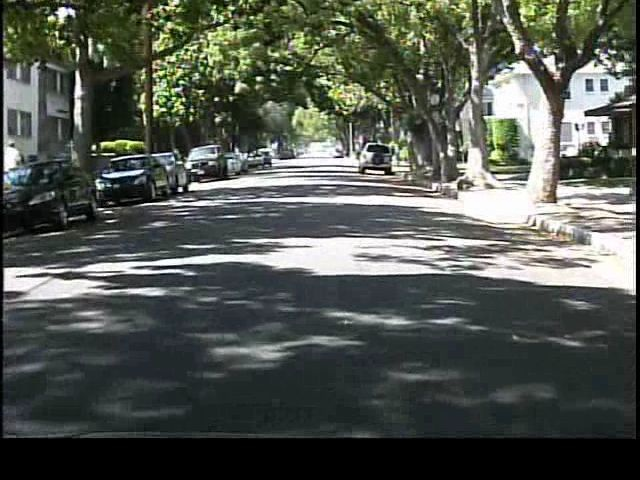person: (3, 137, 28, 203)
